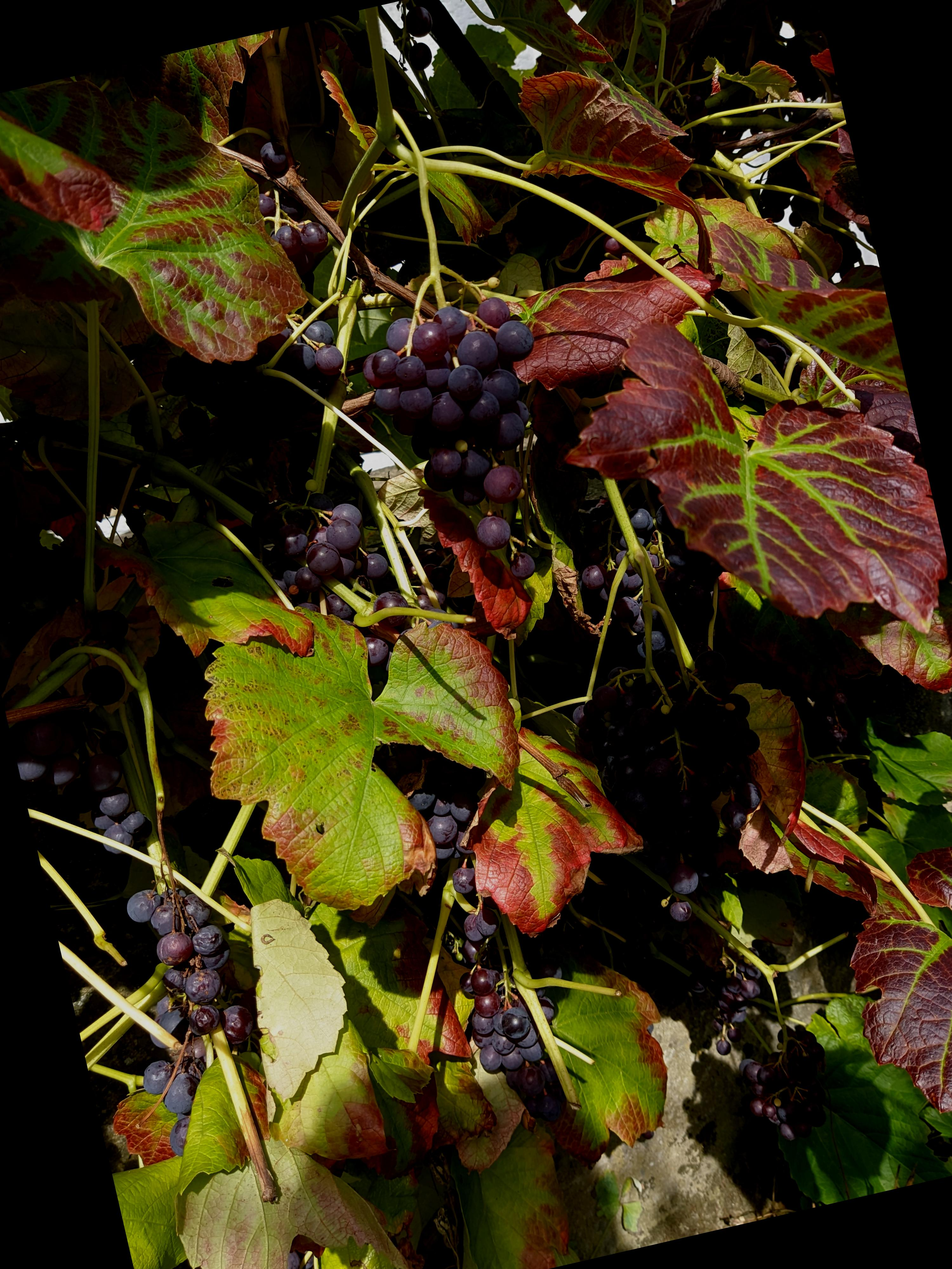Grape Ripe: (277, 857, 470, 1252), (226, 404, 462, 722), (434, 752, 671, 1052), (0, 985, 191, 1269), (124, 584, 346, 801), (30, 427, 236, 579), (443, 603, 598, 780), (0, 719, 54, 988), (607, 1137, 718, 1267), (560, 1054, 657, 1176), (122, 243, 208, 379), (571, 27, 685, 112), (269, 121, 318, 190), (686, 803, 732, 867)
